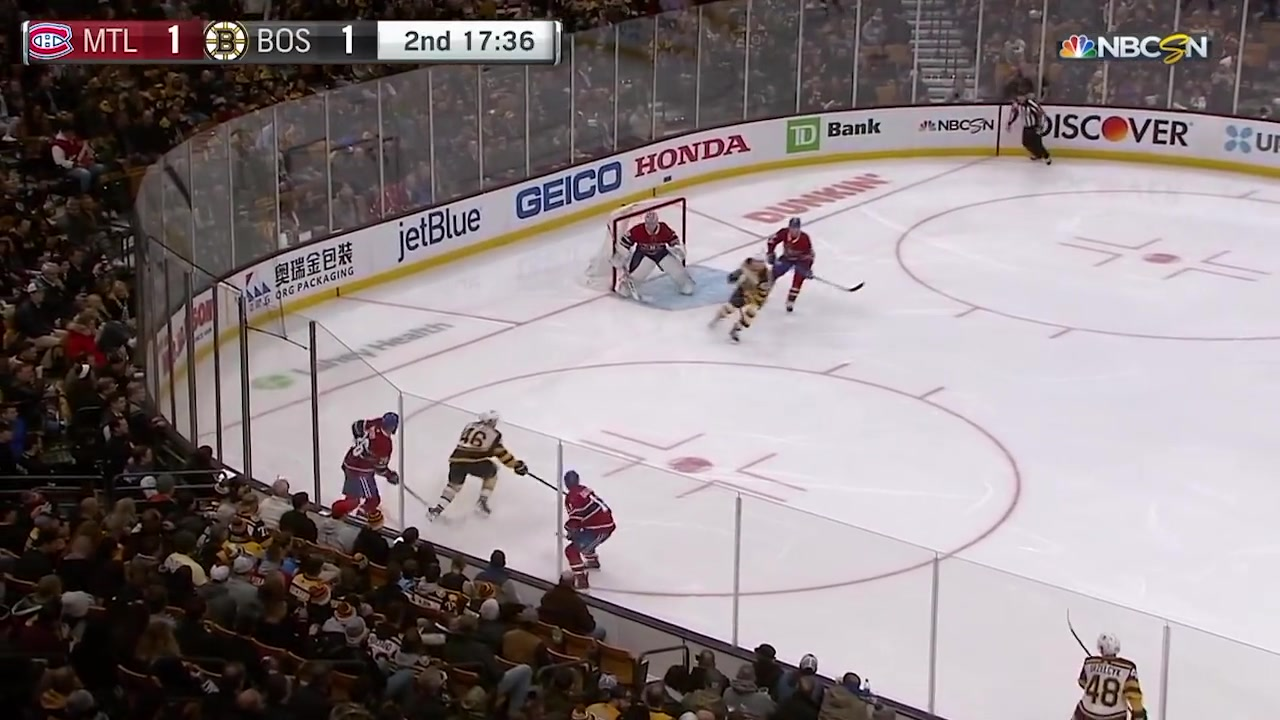geico: (505, 158, 626, 218)
